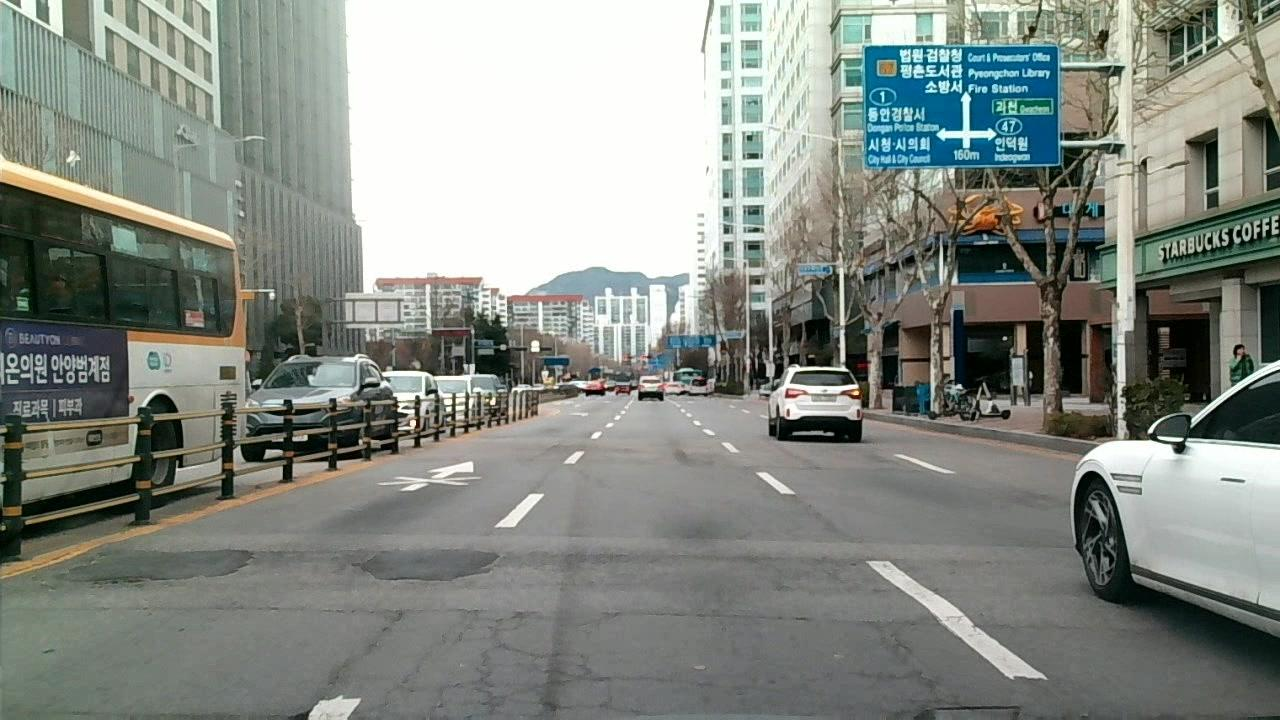banner: (441, 611, 613, 720), (617, 597, 947, 636), (869, 626, 958, 717), (323, 609, 406, 693)
